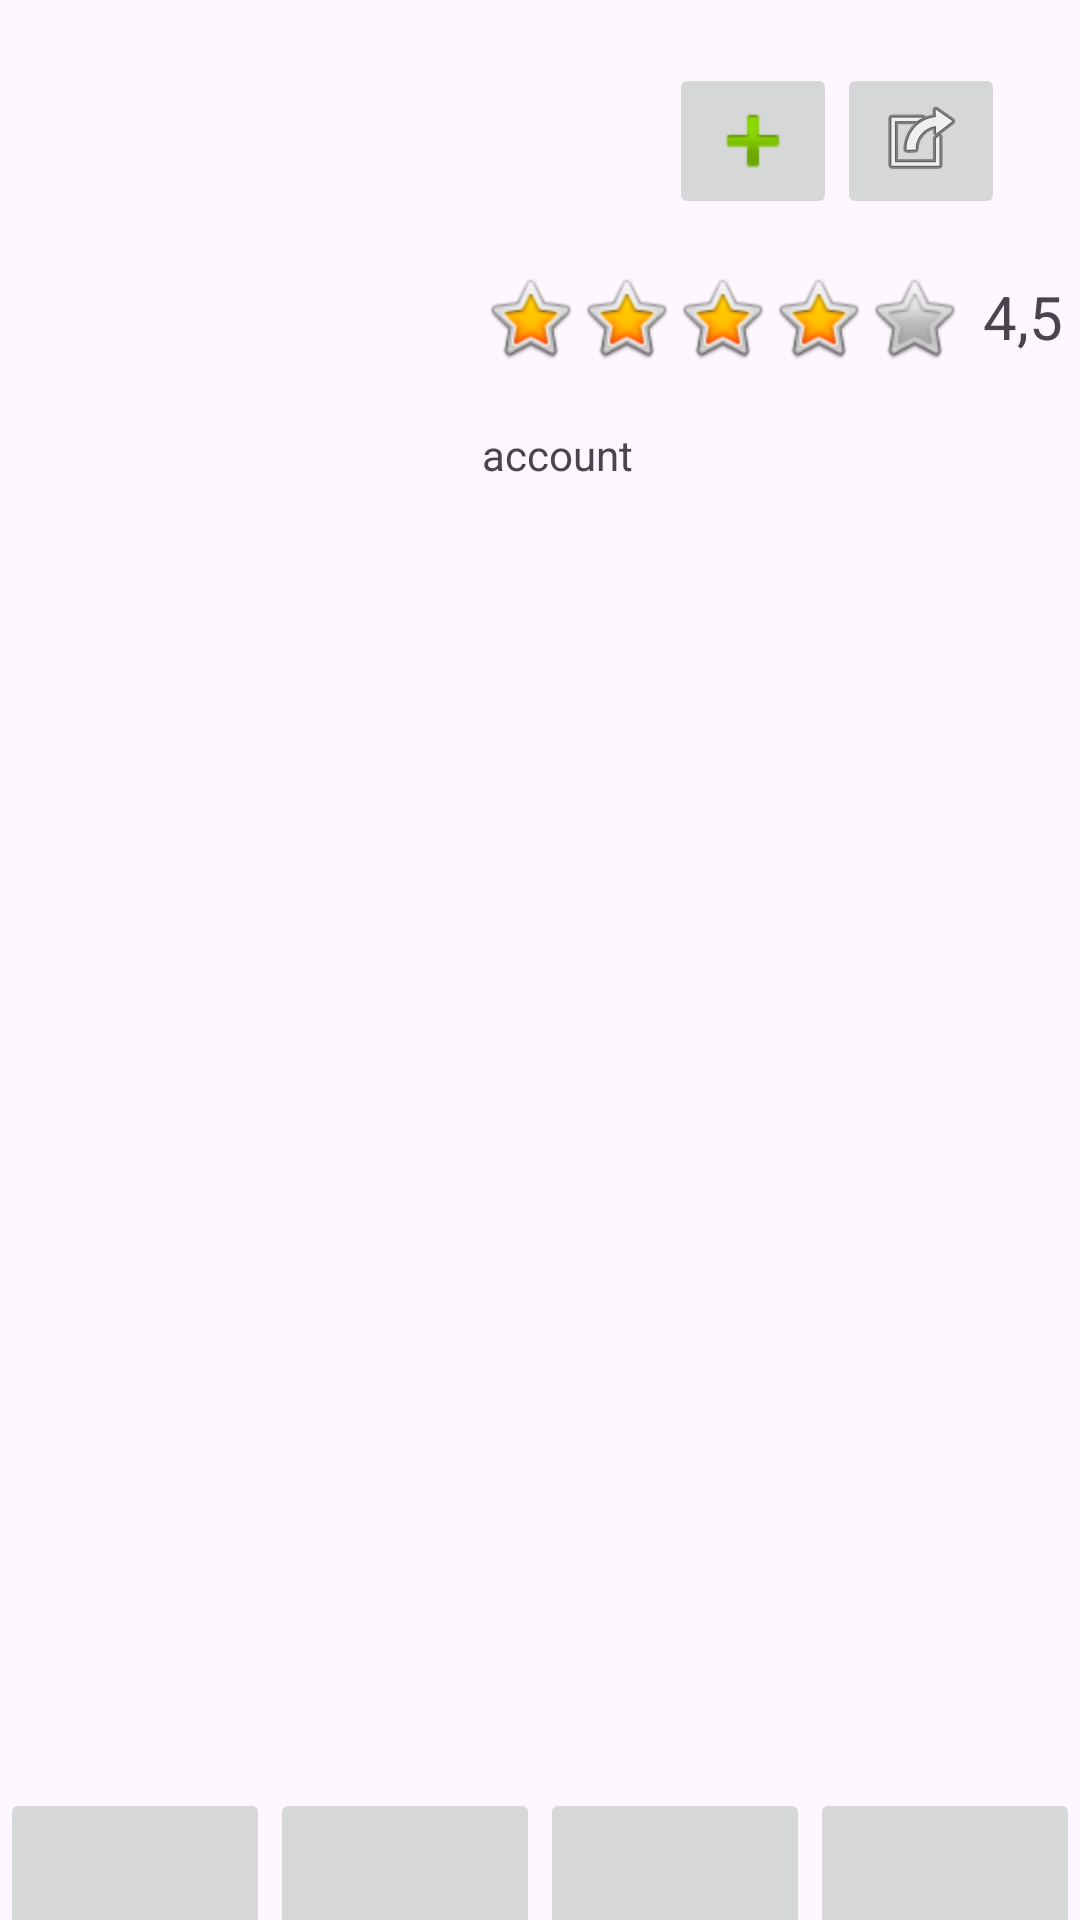

Where icons sit on this 1080px×1920px app screen, as (x1, y1, x2, y2):
add: (681, 81, 825, 201)
set as: (849, 81, 993, 201)
star off: (875, 280, 955, 358)
star on: (491, 280, 571, 358), (587, 280, 667, 358), (683, 280, 763, 358), (779, 280, 859, 358)
